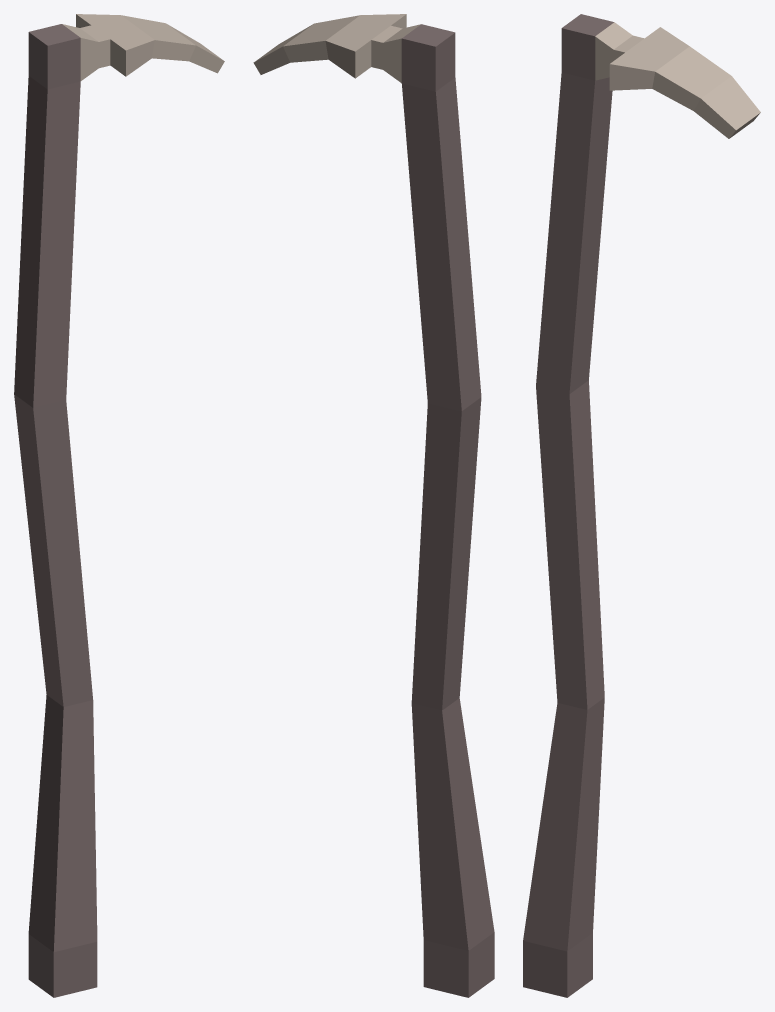
File: Hoe.fbx
The picture shows the model from 3 angles, left to right: view 1: azimuth 30°, elevation 25°; view 2: azimuth 150°, elevation 25°; view 3: azimuth 330°, elevation 25°; orthographic projection. The views are drawn at different scales.
Visible parts, largest first — view 1: Hoe; view 2: Hoe; view 3: Hoe.
Boxes of the visible parts, x1,y1,x2,y2 form: Hoe: (14, 14, 224, 997); Hoe: (253, 14, 494, 997); Hoe: (523, 14, 760, 997).
Bounding box in the file's own units: 35.64 × 163 × 17.95.
